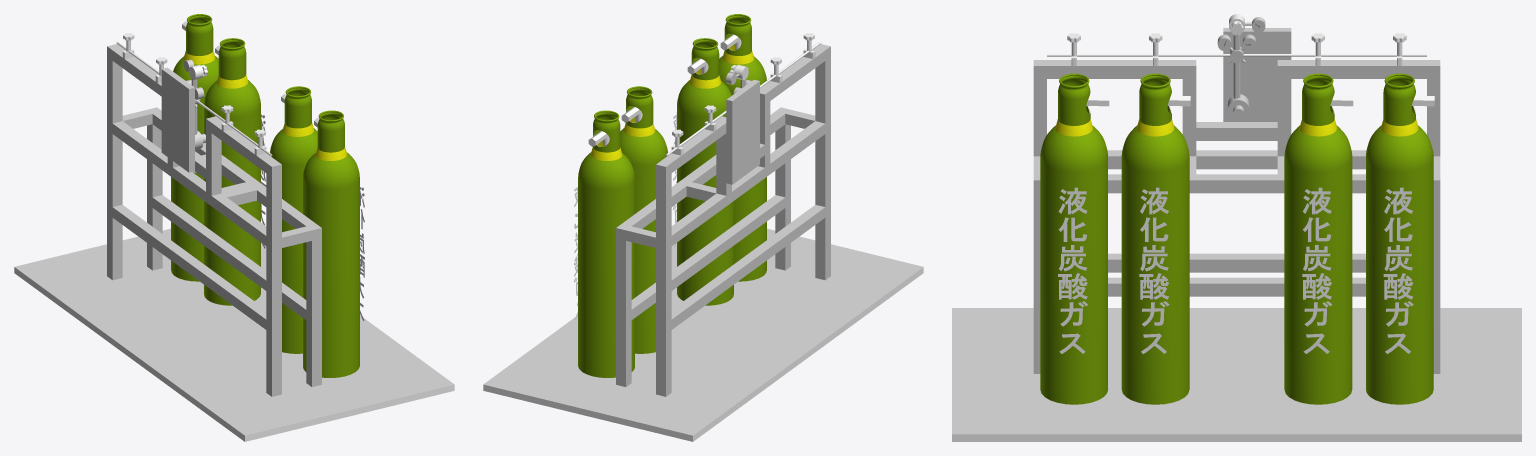
Rendered from GasCylinder.glb.
3 renders of one model, left to right at view 1: azimuth 30°, elevation 25°; view 2: azimuth 150°, elevation 25°; view 3: azimuth 270°, elevation 25°, orthographic. The views are drawn at different scales.
Parts seen in each view (by area): view 1: 液化炭酸ガスボンベ; view 2: 液化炭酸ガスボンベ; view 3: 液化炭酸ガスボンベ.
Part boxes in pixels (bbox=[...]): 液化炭酸ガスボンベ: bbox=[14, 14, 454, 441]; 液化炭酸ガスボンベ: bbox=[483, 14, 923, 441]; 液化炭酸ガスボンベ: bbox=[952, 14, 1521, 441].
Bounding box in the file's own units: 1.05 × 1.32 × 2.
